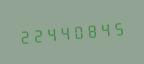eight: (87, 18, 100, 41)
five: (115, 16, 128, 39)
four: (45, 22, 58, 45), (101, 17, 114, 40), (59, 21, 72, 43)
two: (17, 24, 30, 47), (31, 23, 44, 46)
zero: (73, 19, 86, 42)
